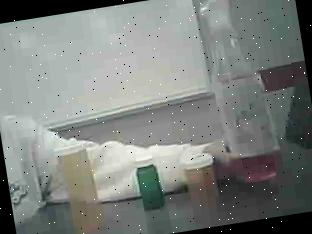Bottle A: (50, 132, 118, 234)
Bottle B: (177, 144, 228, 215)
Bottle C: (130, 146, 173, 216)
hazard: (194, 0, 307, 200)
